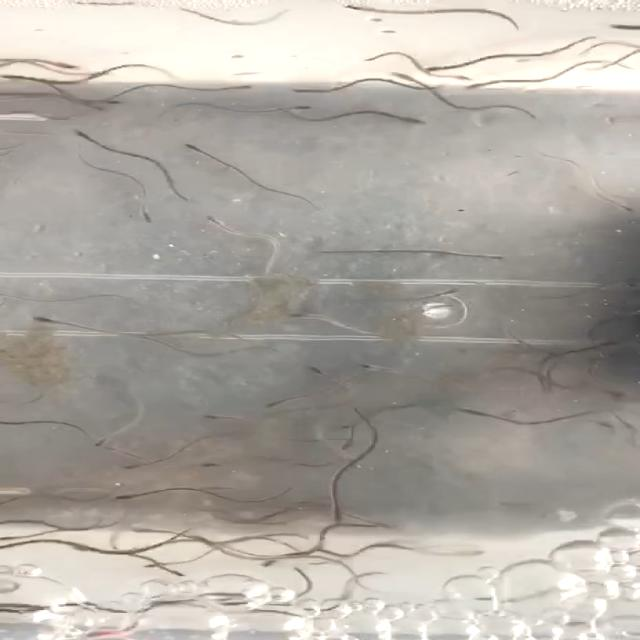active_glass_eel: (108, 192, 176, 232), (170, 210, 248, 233), (501, 68, 568, 94), (406, 55, 456, 88), (585, 185, 640, 215), (361, 105, 427, 128), (422, 280, 474, 308), (473, 239, 512, 275), (480, 406, 534, 431), (2, 538, 62, 560), (54, 124, 108, 148), (304, 364, 358, 388), (312, 440, 375, 460), (256, 390, 306, 415), (575, 331, 631, 353), (298, 76, 359, 96), (14, 494, 62, 518), (0, 600, 48, 624), (175, 129, 212, 159), (5, 69, 66, 87), (32, 312, 70, 340), (8, 416, 55, 438), (290, 311, 334, 332), (321, 477, 351, 507), (117, 452, 157, 474), (432, 82, 478, 100), (88, 432, 131, 450), (567, 382, 605, 402), (341, 5, 399, 18), (118, 332, 162, 349), (116, 485, 162, 501), (210, 81, 254, 97), (164, 560, 208, 576), (20, 53, 70, 67), (117, 305, 174, 317), (138, 526, 172, 546), (259, 555, 296, 573), (284, 100, 322, 117), (193, 481, 236, 496), (255, 492, 298, 507), (32, 90, 68, 107), (145, 562, 188, 576), (414, 546, 454, 560), (198, 458, 234, 473)
